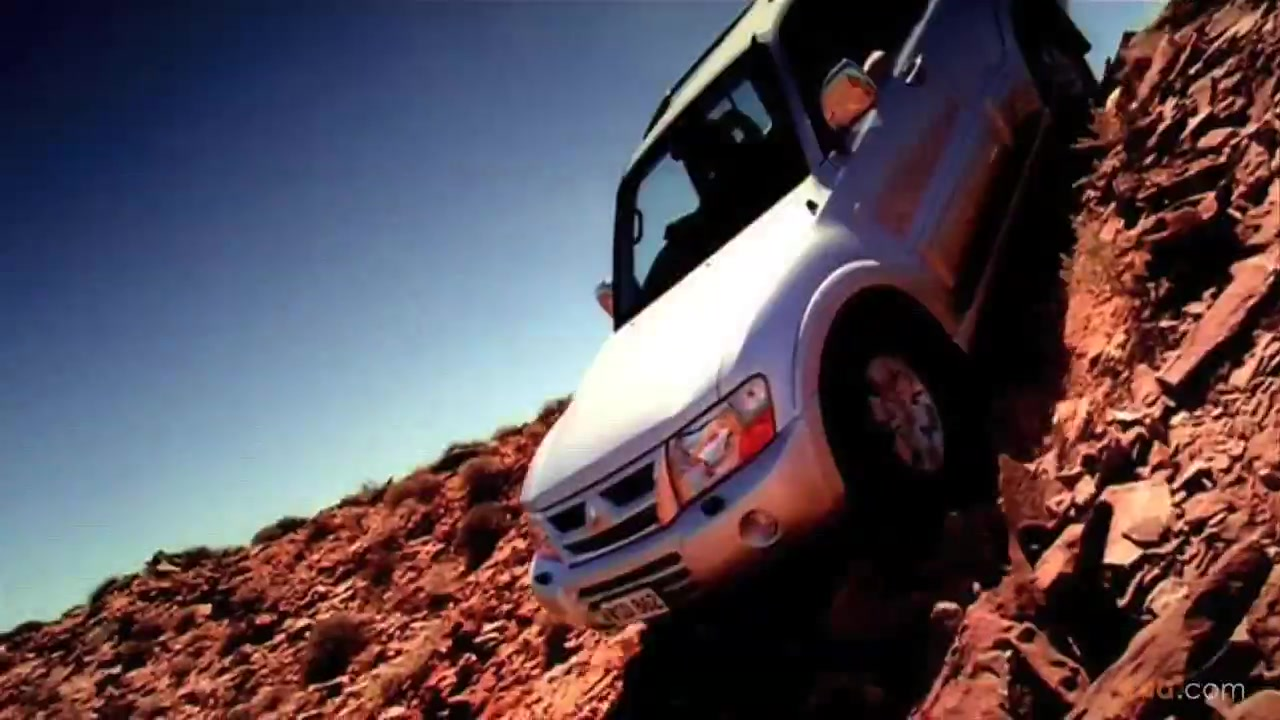car: (516, 1, 1105, 638)
